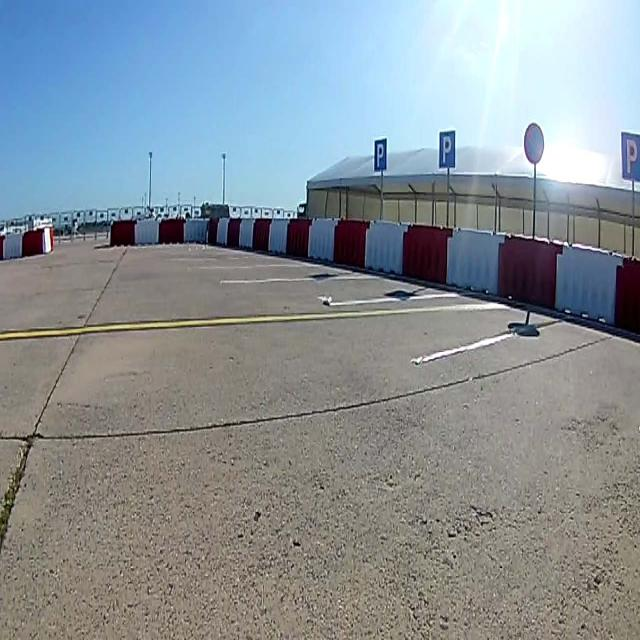park: (621, 132, 640, 182), (440, 131, 454, 169), (374, 138, 386, 170)
parkyasak: (524, 124, 544, 163)
